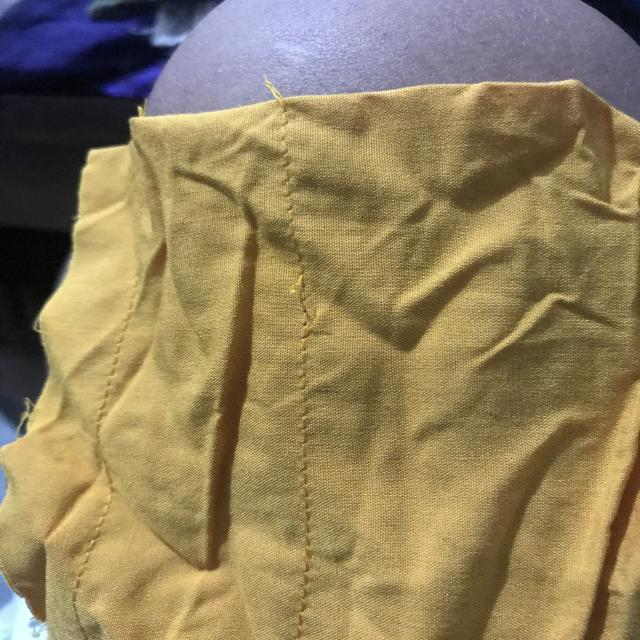broken: (277, 257, 325, 354)
good: (289, 385, 322, 554)
